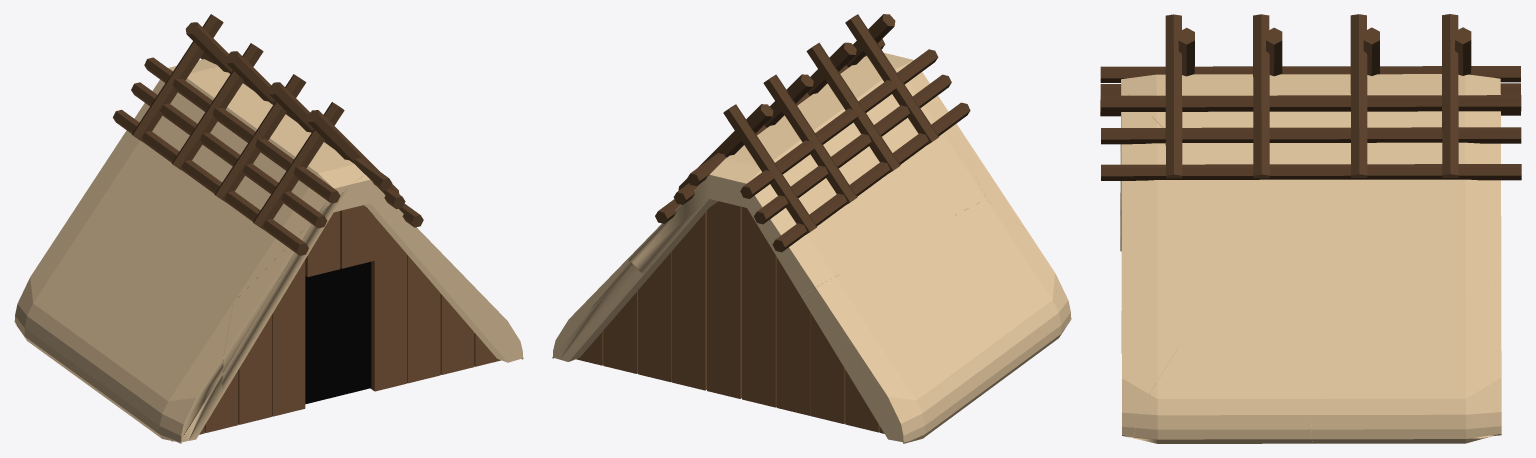
The model's file is ExplodedHouse#4.fbx.
3 renders of one model, left to right at view 1: azimuth 30°, elevation 25°; view 2: azimuth 150°, elevation 25°; view 3: azimuth 270°, elevation 25°, orthographic. The views are drawn at different scales.
Visible parts, largest first — view 1: House#4.002_cell.004, House#4.002_cell, House#4.002_cell.002, House#4.036, House#4.008, House#4.004, House#4.009, House#4.033, House#4.034, House#4.035, House#4.005, House#4.010 (+12 smaller); view 2: House#4.002_cell.004, House#4.002_cell, House#4.019, House#4.020, House#4.015, House#4.012, House#4.016, House#4.002_cell.005, House#4.033, House#4.013, House#4.034, House#4.035 (+12 smaller); view 3: House#4.002_cell, House#4.002_cell.001, House#4.002_cell.003, House#4.002_cell.002, House#4.030, House#4.031, House#4.032, House#4.033, House#4.024, House#4.026, House#4.027, House#4.025 (+6 smaller).
Boxes of the visible parts, x1,y1,x2,y2 form: House#4.002_cell.004: (14, 170, 233, 443); House#4.002_cell: (101, 59, 364, 302); House#4.002_cell.002: (221, 174, 523, 396); House#4.036: (305, 261, 371, 404); House#4.008: (370, 217, 407, 391); House#4.004: (272, 231, 305, 416); House#4.009: (407, 255, 440, 383); House#4.033: (144, 57, 340, 203); House#4.034: (113, 109, 308, 255); House#4.035: (131, 82, 327, 228); House#4.005: (238, 268, 271, 424); House#4.010: (440, 294, 474, 374); House#4.002_cell.004: (802, 199, 1071, 443); House#4.002_cell: (628, 54, 985, 297); House#4.019: (707, 201, 741, 398); House#4.020: (742, 207, 776, 407); House#4.015: (672, 212, 706, 390); House#4.012: (776, 257, 810, 415); House#4.016: (638, 251, 671, 382); House#4.002_cell.005: (552, 259, 648, 361); House#4.033: (740, 49, 938, 198); House#4.013: (810, 275, 845, 423); House#4.034: (772, 102, 970, 252); House#4.035: (754, 74, 951, 224); House#4.002_cell: (1121, 74, 1501, 264); House#4.002_cell.001: (1304, 261, 1496, 443); House#4.002_cell.003: (1133, 222, 1312, 443); House#4.002_cell.002: (1120, 89, 1256, 438); House#4.030: (1101, 95, 1521, 111); House#4.031: (1101, 164, 1521, 180); House#4.032: (1101, 127, 1521, 144); House#4.033: (1100, 66, 1520, 82); House#4.024: (1165, 14, 1182, 178); House#4.026: (1350, 14, 1367, 177); House#4.027: (1253, 14, 1269, 178); House#4.025: (1442, 14, 1458, 177).
Size of the model in its own units: 1201 by 920 by 1073.
